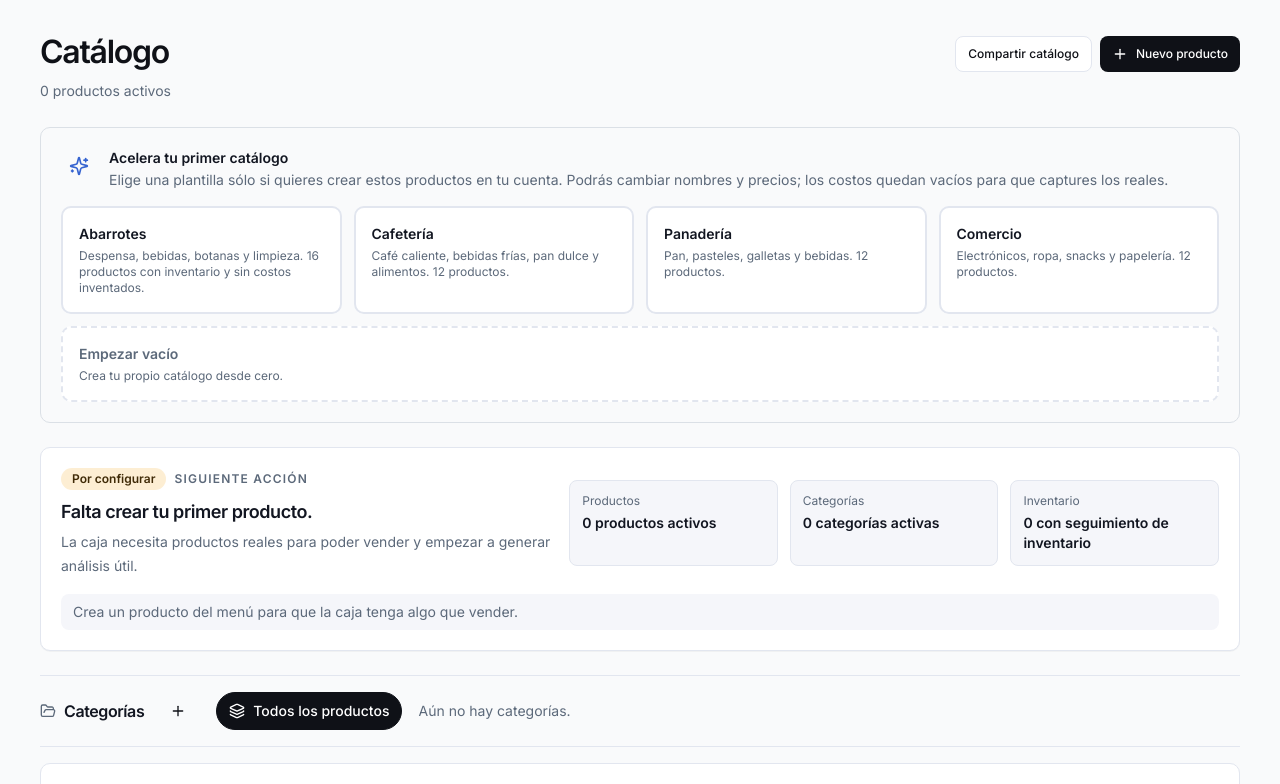
Scenario: catalog publication discovery › preserves the primary product creation action and its form
Expected: the link "Compartir catálogo" is shown, x1=955 y1=36 x2=1092 y2=72
Click the button "Nuevo producto" at (1170, 54), box x1=1100 y1=36 x2=1240 y2=72
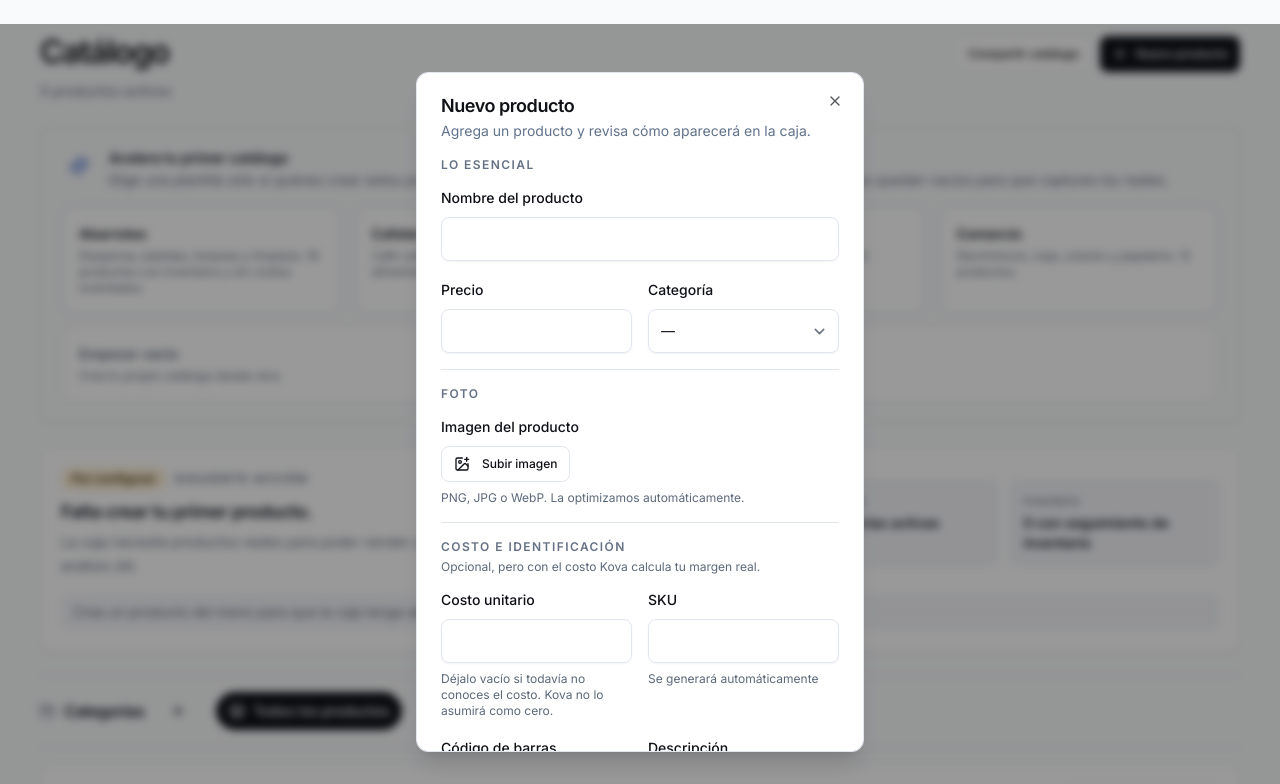
Result: the field labelled "Nombre del producto" is shown at x1=441 y1=217 x2=839 y2=261
